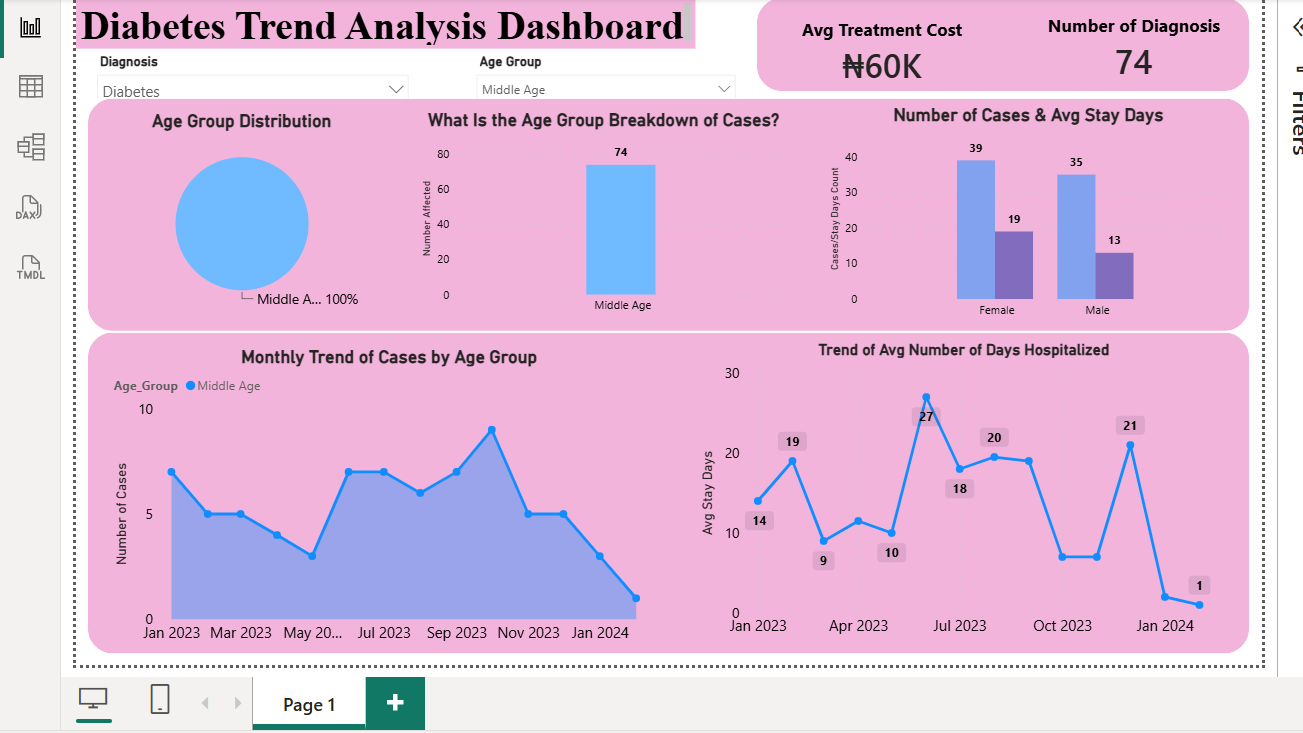

This screenshot's page, from the dashboard's own definition file:
{"tool":"powerbi","page":{"name":"Page 1","canvas":[1280,720],"ordinal":0},"visuals":[{"type":"group","id":"g1","title":"Background","box":[13,0,1253.3,707.6],"z":0},{"type":"shape","box":[735.2,0,531.1,100.4],"z":0,"group":"g1"},{"type":"slicer","fields":{"Values":["Diagnosis_dataset.Diagnosis"]},"box":[13,55.1,356.2,53.4],"z":0,"group":"g2"},{"type":"slicer","fields":{"Values":["Diagnosis_dataset.Age_Group"]},"box":[422.7,55.1,299.6,53.4],"z":1000,"group":"g2"},{"type":"shape","box":[13,108.5,1253.3,251],"z":1000,"group":"g1"},{"type":"lineChart","title":"Trend of Avg Number of Days Hospitalized ","fields":{"Y":["Median(Diagnosis_dataset.Length_of_Stay_Days)"],"Category":["Diagnosis_dataset.Visit_Date.Variation.Date Hierarchy.Year","Diagnosis_dataset.Visit_Date.Variation.Date Hierarchy.Month"]},"box":[668.7,369.2,579.7,330.3],"z":1000},{"type":"cardVisual","fields":{"Data":["Median(Diagnosis_dataset.Treatment_Cost)"]},"box":[722.2,8.1,296.3,100.4],"z":2000},{"type":"shape","box":[13,361.1,1253.3,346.5],"z":2000,"group":"g1"},{"type":"cardVisual","fields":{"Data":["CountNonNull(Diagnosis_dataset.Diagnosis)"]},"box":[1018.5,0,247.7,108.5],"z":3000},{"type":"areaChart","title":"Monthly Trend of Cases by Age Group","fields":{"Category":["Diagnosis_dataset.Visit_Date.Variation.Date Hierarchy.Year","Diagnosis_dataset.Visit_Date.Variation.Date Hierarchy.Month"],"Y":["CountNonNull(Diagnosis_dataset.Diagnosis)"],"Series":["Diagnosis_dataset.Age_Group"]},"box":[35.9,376.1,604.7,330.7],"z":4000},{"type":"clusteredColumnChart","title":"Number of Cases & Avg Stay Days","fields":{"Category":["Diagnosis_dataset.Gender"],"Y":["CountNonNull(Diagnosis_dataset.Diagnosis)","Median(Diagnosis_dataset.Length_of_Stay_Days)"]},"box":[808,115,440.4,239.6],"z":5000},{"type":"clusteredColumnChart","title":"What Is the Age Group Breakdown of Cases?","fields":{"Category":["Diagnosis_dataset.Age_Group"],"Y":["CountNonNull(Diagnosis_dataset.Diagnosis)"]},"box":[367.6,119.8,404.8,229.9],"z":6000},{"type":"pieChart","title":"Age Group Distribution","fields":{"Category":["Diagnosis_dataset.Age_Group"],"Y":["CountNonNull(Diagnosis_dataset.Diagnosis)"]},"box":[13,121.4,331.9,221.8],"z":7000},{"type":"textbox","box":[0,0,669,54.8],"z":8000},{"type":"group","id":"g2","title":"Slicers","box":[13,55.1,709.2,53.4],"z":9000}]}

Visuals, with their boxes on the page's 1280x720 design canvas (x1, y1, x2, y2). These are canvas units, not pixel positions in the 1303x733 screenshot, which may show the page scaled, cropped or inside an application window:
"Background" group: x1=13 y1=0 x2=1266 y2=708
shape: x1=735 y1=0 x2=1266 y2=100
slicer - Diagnosis_dataset.Diagnosis: x1=13 y1=55 x2=369 y2=108
slicer - Diagnosis_dataset.Age_Group: x1=423 y1=55 x2=722 y2=108
shape: x1=13 y1=108 x2=1266 y2=360
"Trend of Avg Number of Days Hospitalized " lineChart: x1=669 y1=369 x2=1248 y2=700
cardVisual - Median(Diagnosis_dataset.Treatment_Cost): x1=722 y1=8 x2=1018 y2=108
shape: x1=13 y1=361 x2=1266 y2=708
cardVisual - CountNonNull(Diagnosis_dataset.Diagnosis): x1=1018 y1=0 x2=1266 y2=108
"Monthly Trend of Cases by Age Group" areaChart: x1=36 y1=376 x2=641 y2=707
"Number of Cases & Avg Stay Days" clusteredColumnChart: x1=808 y1=115 x2=1248 y2=355
"What Is the Age Group Breakdown of Cases?" clusteredColumnChart: x1=368 y1=120 x2=772 y2=350
"Age Group Distribution" pieChart: x1=13 y1=121 x2=345 y2=343
textbox: x1=0 y1=0 x2=669 y2=55
"Slicers" group: x1=13 y1=55 x2=722 y2=108
